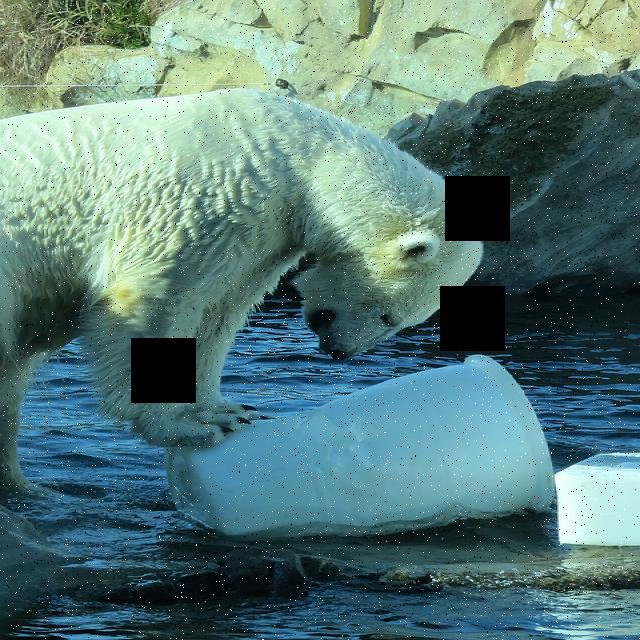Bear: (1, 92, 500, 472)
